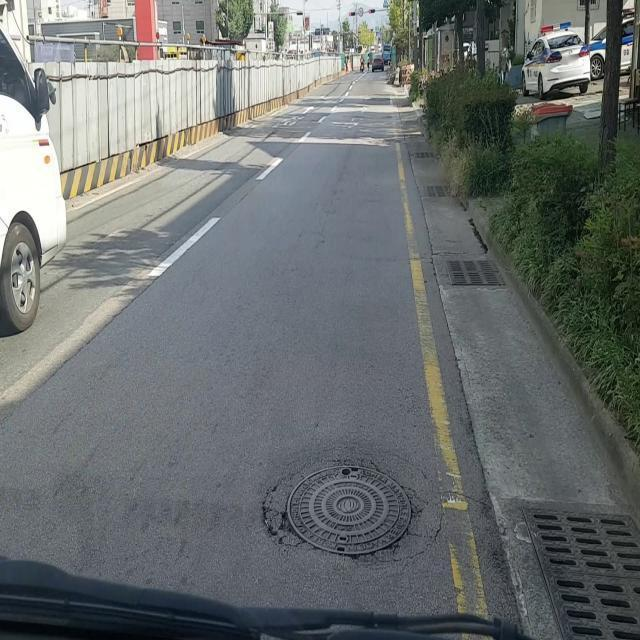pothole: (263, 463, 422, 563)
